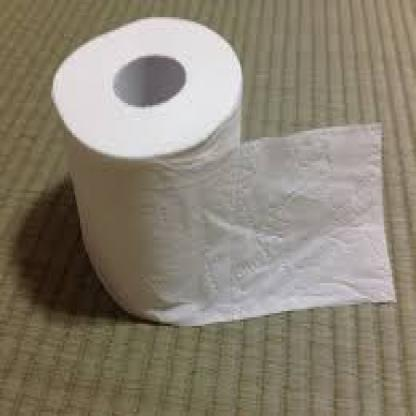tissue: (47, 7, 405, 344)
